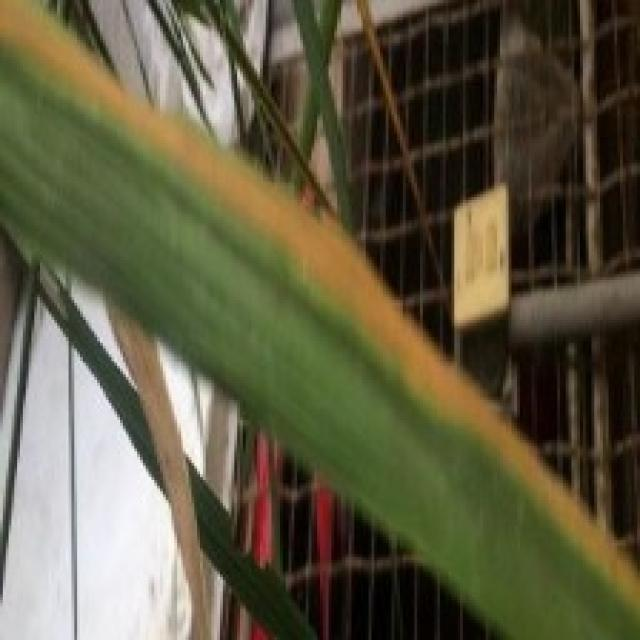Rice___Bacterial_Leaf_Blight: (0, 0, 637, 637)
